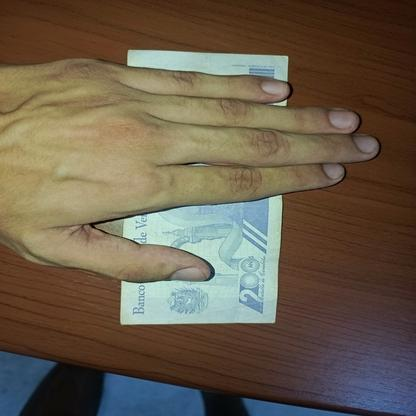ten-back-vef: (120, 48, 288, 326)
